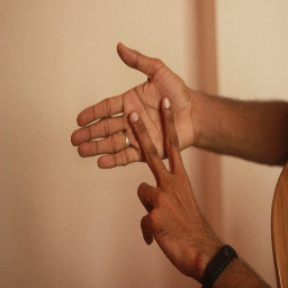N: (62, 36, 217, 236)
